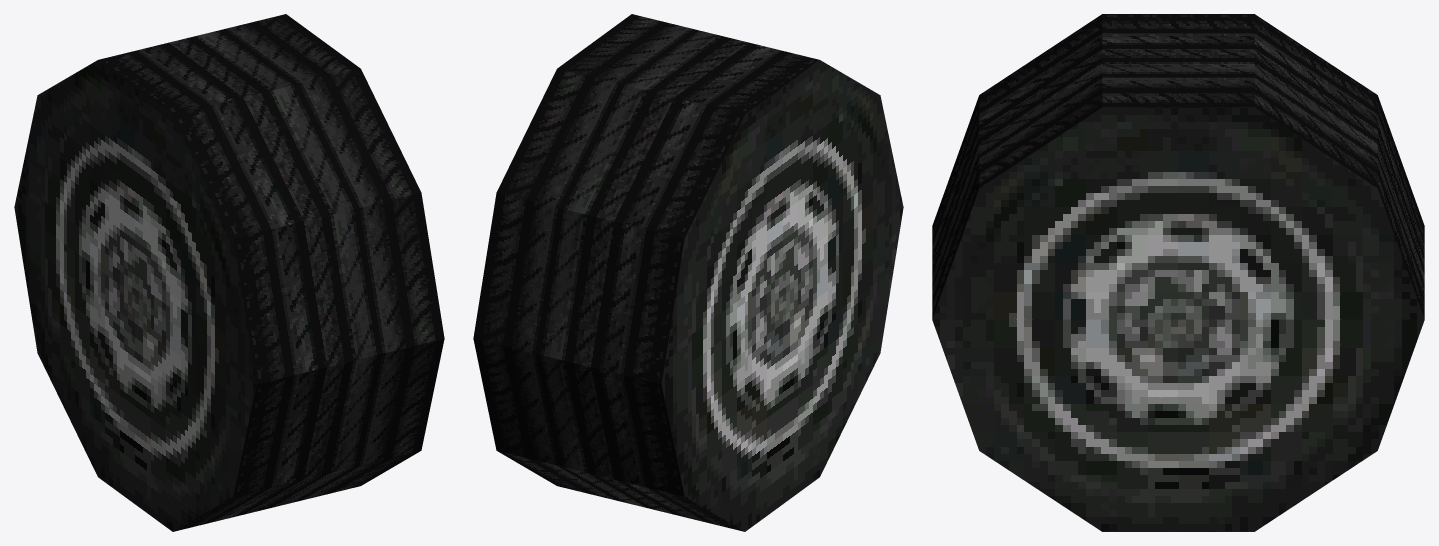
Rendered from Lightvan_Wheel.fbx.
3 views of the same model, side by side, from view 1: azimuth 30°, elevation 25°; view 2: azimuth 150°, elevation 25°; view 3: azimuth 270°, elevation 25° (orthographic).
Visible parts, largest first — view 1: wheel_lightvan_l1; view 2: wheel_lightvan_l1; view 3: wheel_lightvan_l1.
Boxes of the visible parts, x1,y1,x2,y2 form: wheel_lightvan_l1: (14,14,444,531); wheel_lightvan_l1: (473,14,903,531); wheel_lightvan_l1: (932,14,1424,531).
Size of the model in its own units: 45.4 by 96.23 by 101.
Materials: 2 (2 with a texture image).
